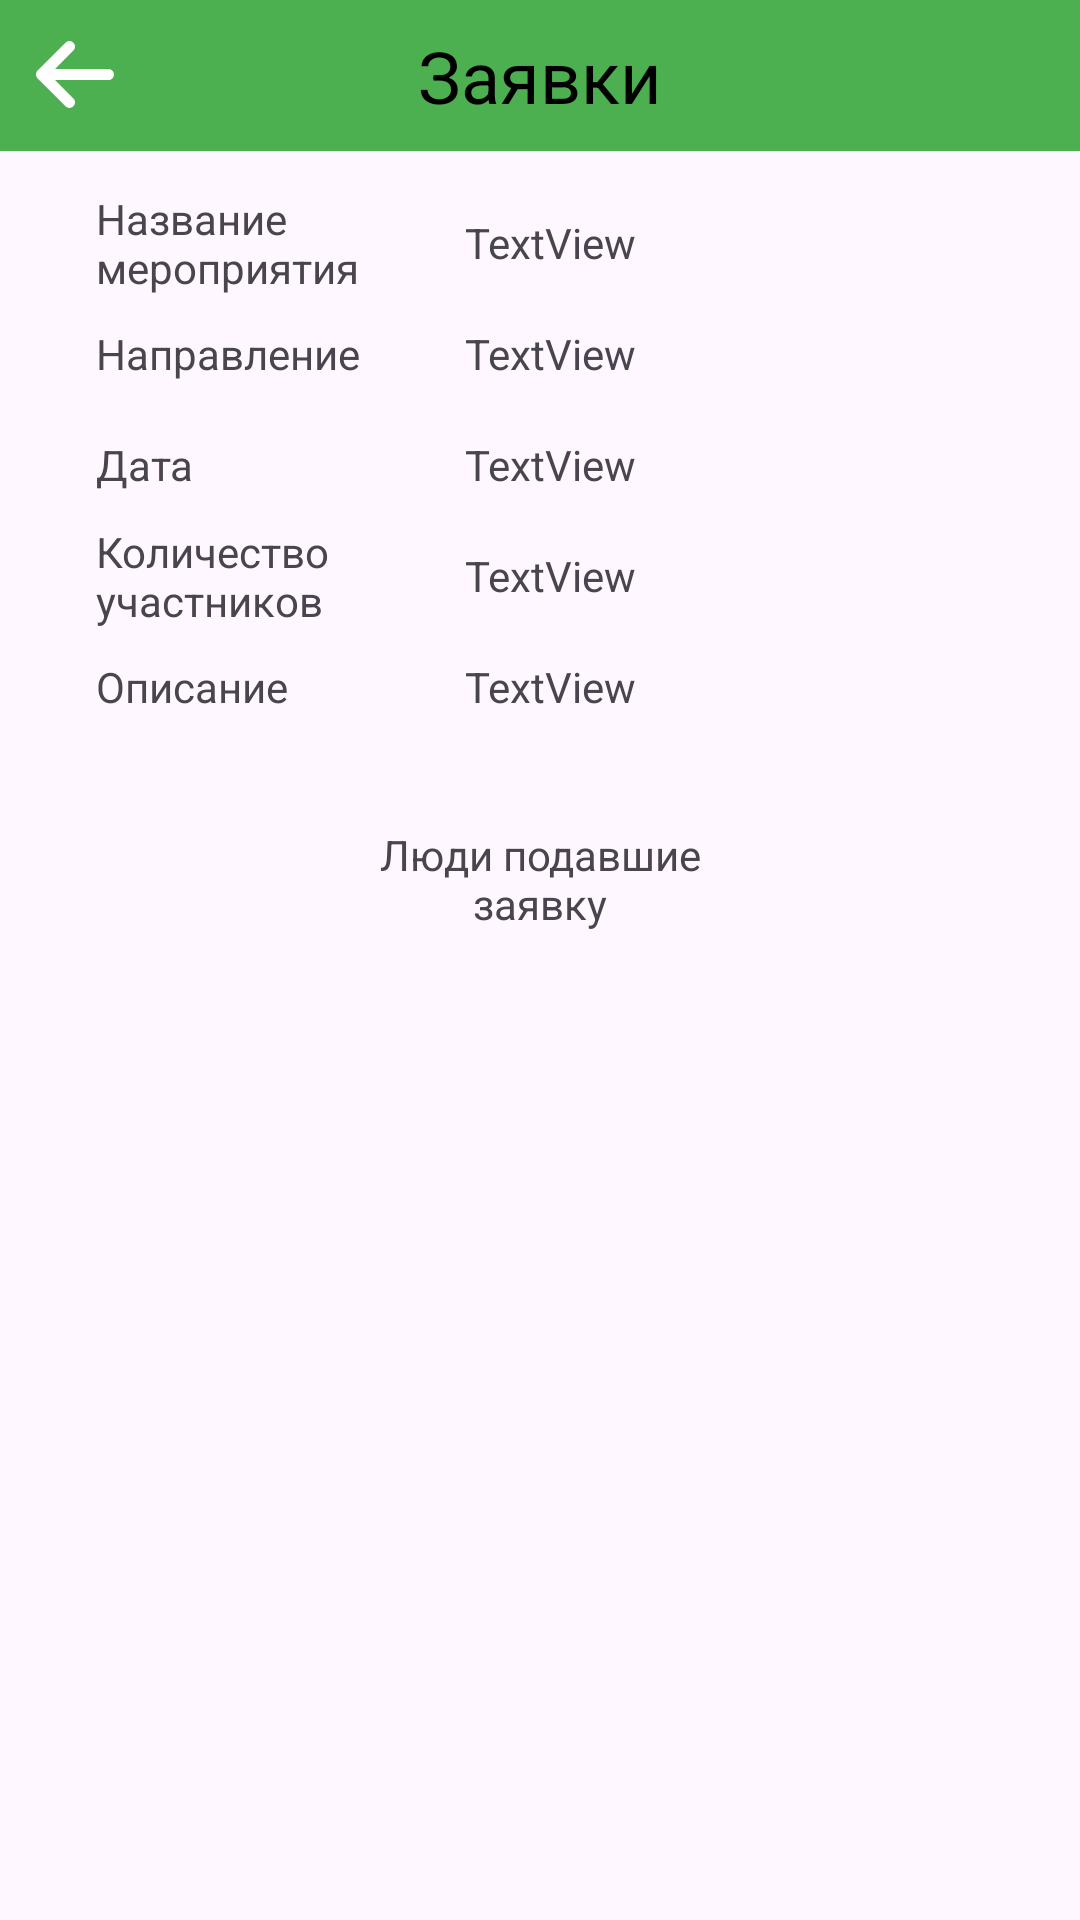

Screen size 1080×1920. Icon name, then its center in pixels as (x,y):
arrow left: (75,74)
